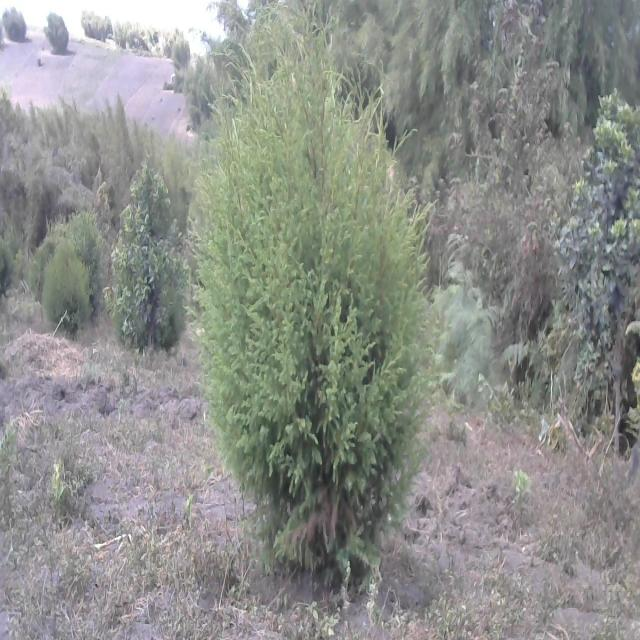cedrus: (193, 0, 441, 606), (42, 236, 86, 344)
other: (452, 7, 562, 379), (566, 89, 640, 448), (113, 151, 187, 357), (41, 10, 72, 59), (2, 4, 30, 46)
